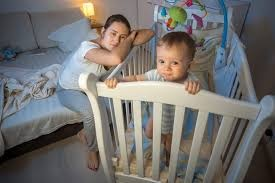baby: (105, 31, 200, 93)
crib: (80, 32, 274, 182)
